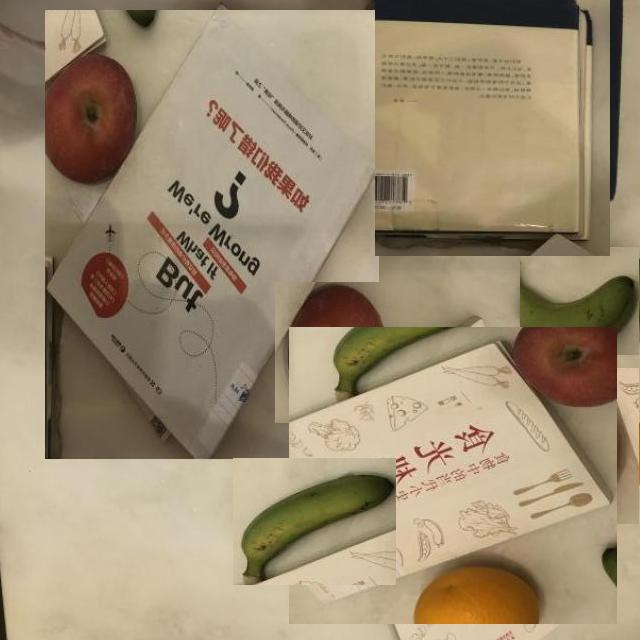Apple: (275, 283, 399, 423)
Banana: (233, 459, 396, 585), (520, 247, 639, 355)
Book: (45, 10, 379, 459), (289, 327, 617, 624), (376, 0, 610, 256)
Orange: (518, 368, 640, 524)
